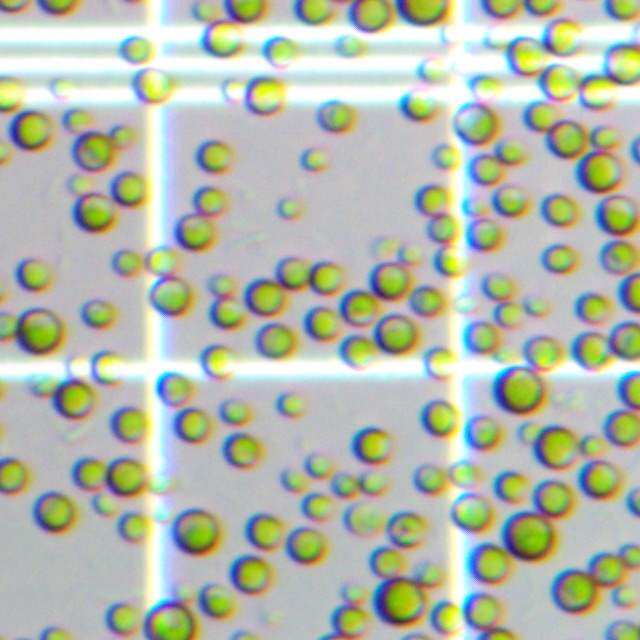cell: (501, 508, 561, 568), (491, 363, 550, 421), (169, 506, 225, 561), (376, 576, 429, 629), (576, 456, 630, 508), (14, 306, 66, 359), (532, 423, 584, 476), (29, 489, 83, 540), (576, 147, 627, 199), (371, 311, 423, 361), (341, 497, 395, 545), (450, 100, 500, 151), (227, 552, 279, 601), (141, 598, 200, 640), (50, 377, 100, 426), (543, 117, 593, 166), (282, 524, 333, 572), (8, 108, 58, 156), (219, 429, 269, 476), (554, 565, 598, 618), (242, 74, 291, 121), (70, 129, 119, 176), (72, 191, 120, 238), (147, 274, 194, 322), (448, 491, 496, 538), (199, 18, 249, 63), (595, 192, 640, 242), (541, 15, 588, 62), (419, 397, 465, 445), (130, 66, 179, 110), (243, 511, 289, 557), (350, 425, 397, 470), (101, 453, 150, 496), (468, 542, 510, 592), (107, 403, 152, 449), (195, 581, 242, 625), (172, 405, 217, 450), (537, 240, 585, 282), (506, 32, 547, 81), (108, 169, 152, 213), (370, 261, 414, 305), (194, 137, 240, 179), (13, 255, 57, 298), (77, 295, 122, 337), (314, 97, 360, 138), (538, 192, 584, 232), (176, 213, 218, 256), (602, 42, 640, 89), (396, 0, 453, 31), (303, 305, 346, 346), (102, 600, 146, 640), (116, 32, 161, 71), (308, 259, 349, 301), (520, 100, 569, 135), (71, 456, 111, 498), (538, 62, 579, 102), (603, 409, 640, 453), (458, 317, 501, 354), (605, 320, 640, 365), (261, 29, 296, 74), (274, 255, 314, 294), (91, 346, 128, 388), (108, 245, 147, 284), (0, 454, 33, 500), (401, 88, 441, 125), (463, 217, 503, 254), (428, 141, 466, 177), (274, 390, 313, 425), (573, 332, 608, 371), (371, 546, 410, 581), (199, 348, 239, 382), (582, 74, 618, 111), (599, 241, 639, 274), (571, 288, 607, 324), (333, 602, 369, 638), (297, 144, 335, 178), (461, 413, 495, 451), (293, 0, 337, 29), (386, 514, 430, 543), (499, 468, 530, 509), (256, 324, 292, 359), (587, 549, 620, 587), (446, 455, 483, 488), (219, 397, 262, 425), (429, 602, 469, 632), (434, 245, 470, 278), (463, 592, 500, 624), (273, 194, 308, 227), (342, 338, 377, 371), (467, 70, 504, 101), (0, 76, 29, 115), (480, 21, 515, 53), (225, 0, 267, 26), (156, 372, 189, 405), (191, 184, 225, 216), (521, 335, 556, 366), (518, 286, 548, 322), (478, 0, 527, 22), (618, 368, 640, 416), (410, 285, 443, 317), (342, 292, 376, 323), (246, 276, 277, 310), (36, 0, 88, 20), (61, 106, 93, 138), (538, 481, 570, 513), (496, 181, 525, 216), (478, 271, 510, 302), (422, 345, 456, 374), (46, 76, 82, 103), (470, 152, 499, 185), (420, 58, 451, 88), (603, 0, 640, 25), (600, 617, 640, 640), (449, 293, 489, 316), (392, 243, 427, 269), (117, 516, 148, 545), (413, 464, 443, 493), (211, 299, 240, 328), (149, 246, 177, 276), (150, 497, 180, 524), (334, 33, 363, 60), (222, 75, 246, 107), (26, 371, 53, 398), (610, 583, 636, 611), (499, 301, 524, 330), (360, 466, 385, 495), (424, 216, 456, 238), (522, 0, 561, 18), (420, 559, 446, 586), (415, 188, 444, 212), (366, 235, 398, 256), (302, 489, 330, 513), (38, 624, 82, 639), (0, 309, 18, 344), (591, 121, 614, 148), (278, 466, 305, 489), (621, 277, 639, 311), (334, 579, 368, 597), (441, 22, 464, 48), (64, 356, 87, 381), (190, 3, 216, 24), (619, 538, 639, 565), (207, 275, 234, 295), (0, 137, 15, 171), (91, 490, 113, 513), (331, 470, 352, 494), (0, 0, 35, 14), (306, 452, 327, 474), (458, 198, 488, 213), (579, 436, 604, 454), (499, 145, 521, 165), (479, 629, 523, 639), (231, 625, 261, 639), (111, 125, 133, 143), (147, 474, 172, 489), (517, 424, 537, 439)
